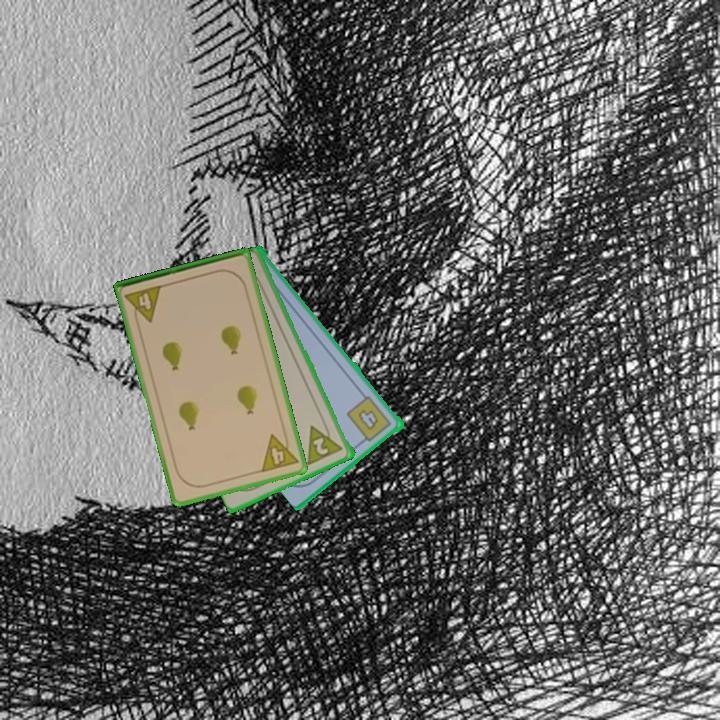2p: (310, 434, 332, 458)
4b: (343, 393, 395, 446)
4p: (257, 428, 301, 475), (121, 282, 165, 328)
